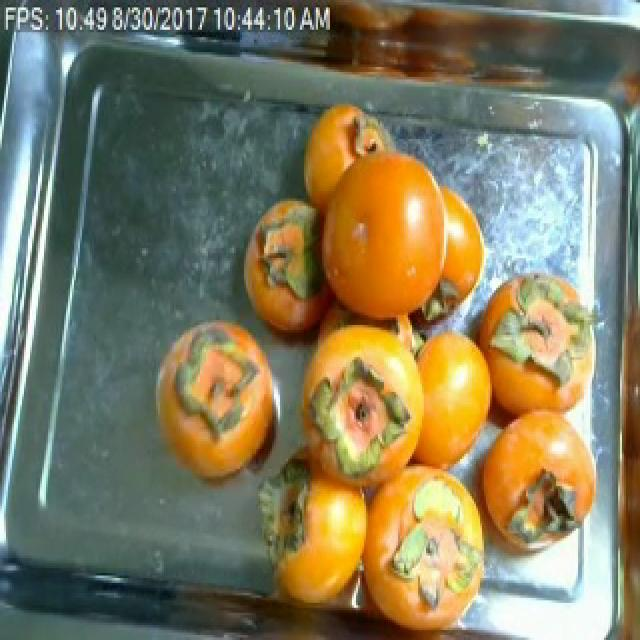Fruit: (152, 308, 276, 442)
